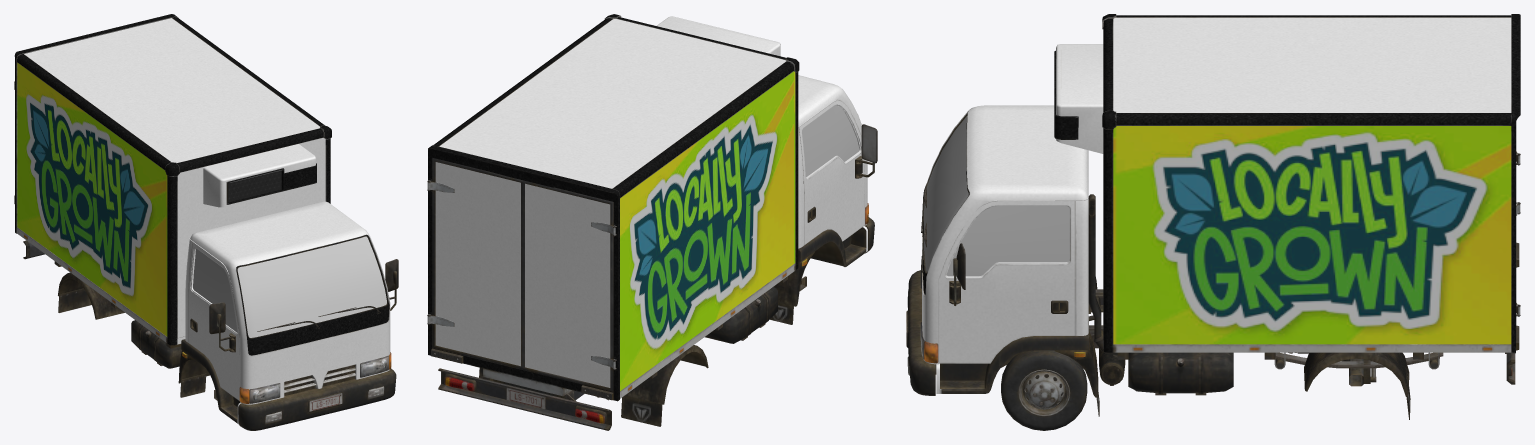
Rendered from Loader.fbx.
3 views of the same model, side by side, from view 1: azimuth 30°, elevation 25°; view 2: azimuth 150°, elevation 25°; view 3: azimuth 270°, elevation 25° (orthographic). The views are drawn at different scales.
Visible parts, largest first — view 1: Object005; view 2: Object005; view 3: Object005, Light_Truck_Wheel_FrontLeft_Light_Truck_Chassis_0.
Part boxes in pixels (x1=…): Object005: x1=14, y1=14, x2=398, y2=430; Object005: x1=427, y1=14, x2=877, y2=430; Object005: x1=906, y1=14, x2=1520, y2=419; Light_Truck_Wheel_FrontLeft_Light_Truck_Chassis_0: x1=1001, y1=350, x2=1087, y2=430.
Size of the model in its own units: 103 by 219 by 126.
